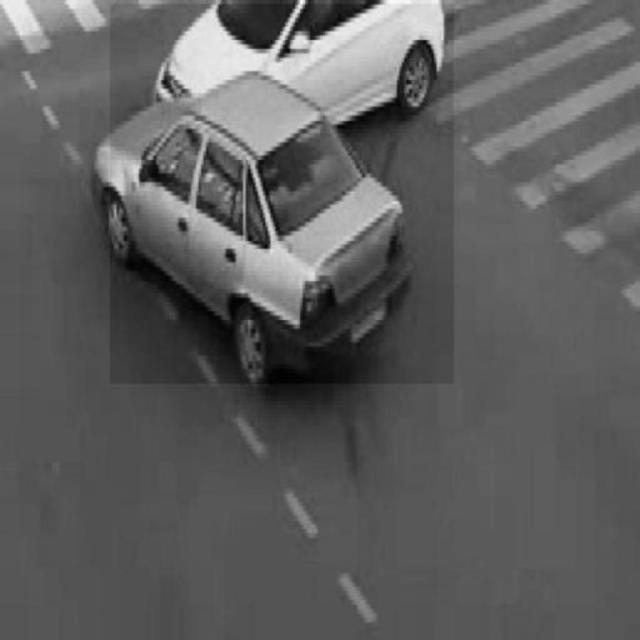accident: (110, 4, 454, 384)
